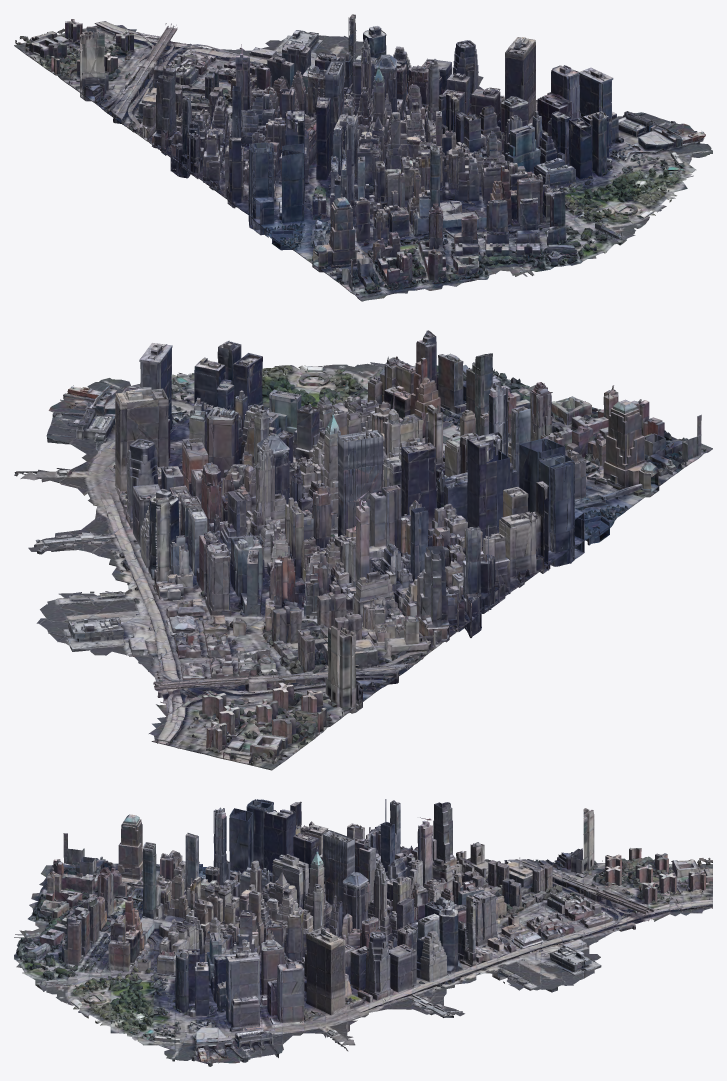
3 views of the same model, one above another, from view 1: azimuth 30°, elevation 25°; view 2: azimuth 150°, elevation 25°; view 3: azimuth 270°, elevation 25° (orthographic). The views are drawn at different scales.
Visible parts, largest first — view 1: Object_4, Object_3, Object_9, Object_8, Object_6, Object_7, Object_10, Object_5, Object_11, Object_15, Object_14, Object_16 (+2 smaller); view 2: Object_9, Object_3, Object_4, Object_6, Object_8, Object_7, Object_5, Object_11, Object_10, Object_15, Object_16, Object_12 (+2 smaller); view 3: Object_3, Object_9, Object_4, Object_5, Object_10, Object_8, Object_11, Object_6, Object_7, Object_15, Object_16, Object_13 (+2 smaller).
Boxes of the visible parts, box(x1,y1,x2,y2) form: Object_4: box(14, 21, 679, 301); Object_3: box(118, 30, 712, 281); Object_9: box(171, 14, 618, 209); Object_8: box(77, 26, 612, 251); Object_6: box(128, 29, 641, 256); Object_7: box(305, 55, 602, 208); Object_10: box(231, 48, 612, 224); Object_5: box(71, 19, 615, 290); Object_11: box(72, 17, 535, 275); Object_15: box(36, 40, 520, 237); Object_14: box(202, 103, 570, 246); Object_16: box(59, 65, 555, 250); Object_9: box(36, 343, 584, 623); Object_3: box(14, 356, 585, 709); Object_4: box(53, 365, 712, 770); Object_6: box(152, 330, 598, 728); Object_8: box(127, 340, 656, 699); Object_7: box(146, 342, 475, 574); Object_5: box(102, 393, 670, 754); Object_11: box(138, 373, 701, 728); Object_10: box(122, 348, 564, 581); Object_15: box(191, 407, 556, 748); Object_16: box(81, 376, 527, 726); Object_12: box(109, 431, 460, 637); Object_3: box(14, 882, 626, 1066); Object_9: box(142, 799, 573, 1014); Object_4: box(24, 848, 712, 1032); Object_5: box(29, 860, 712, 1032); Object_10: box(110, 833, 411, 1007); Object_8: box(115, 801, 621, 1013); Object_11: box(47, 802, 703, 984); Object_6: box(66, 823, 690, 1032); Object_7: box(115, 867, 454, 991); Object_15: box(110, 848, 669, 984); Object_16: box(81, 863, 626, 1009); Object_13: box(153, 874, 397, 1033).
Bounding box in the file's own units: 8.07 × 2.23 × 11.93.
1 material, 1 textured.
